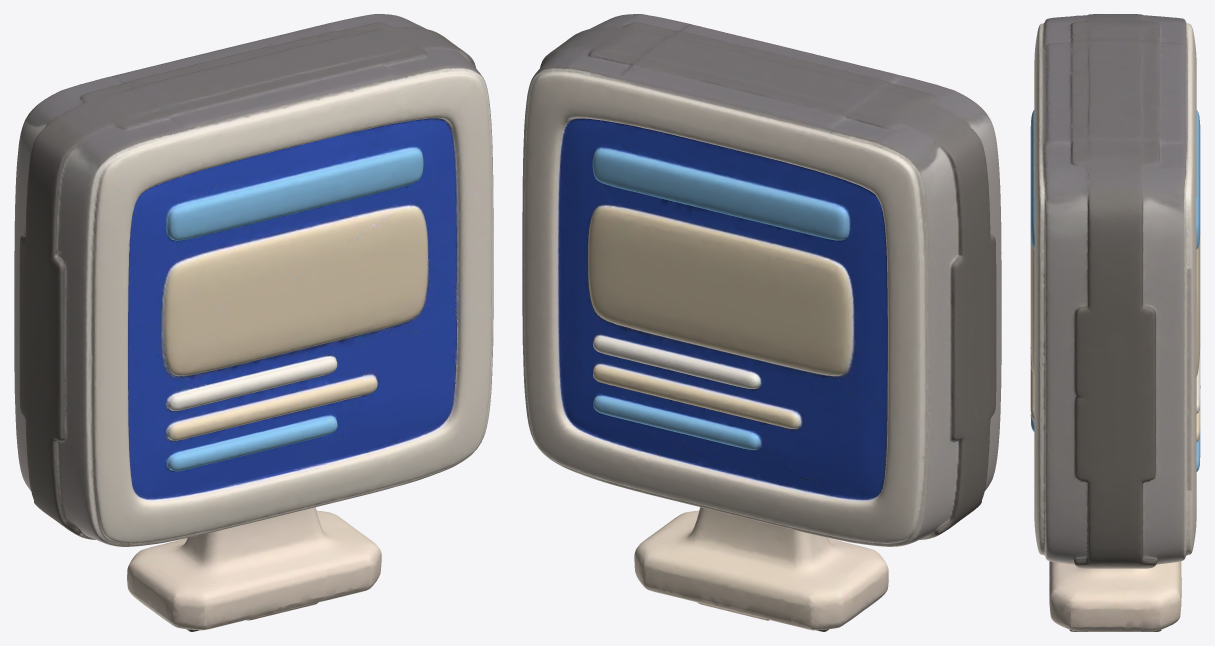
The model's file is websites.glb.
3 renders of one model, left to right at view 1: azimuth 30°, elevation 25°; view 2: azimuth 150°, elevation 25°; view 3: azimuth 270°, elevation 25°, orthographic. The views are drawn at different scales.
Bounding box in the file's own units: 1.64 × 1.9 × 0.582.
1 material, 1 textured.
